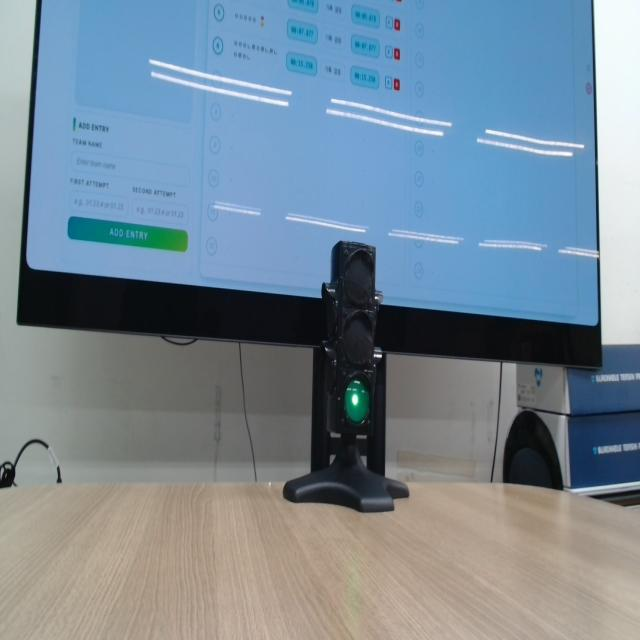green_light: (345, 378, 370, 424)
